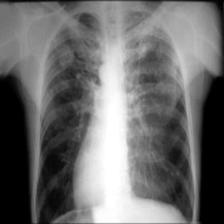tuberculosis: (28, 4, 199, 224)
